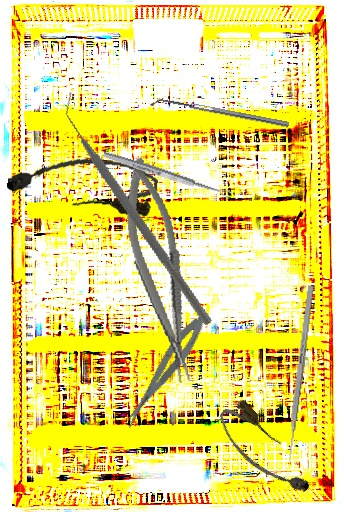Cannula: (211, 395, 317, 508), (5, 148, 160, 218)
Chopper: (4, 90, 275, 327)
Micro Scissor: (116, 311, 212, 431)
Needle Holder: (115, 153, 202, 388)
Pusher: (284, 285, 315, 468)
Spatula Surgical: (149, 95, 290, 133)
Surgical Spoon: (102, 150, 233, 200)
